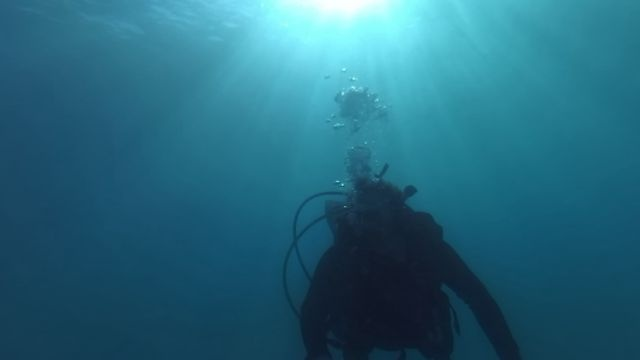Diver: (299, 171, 521, 350)
